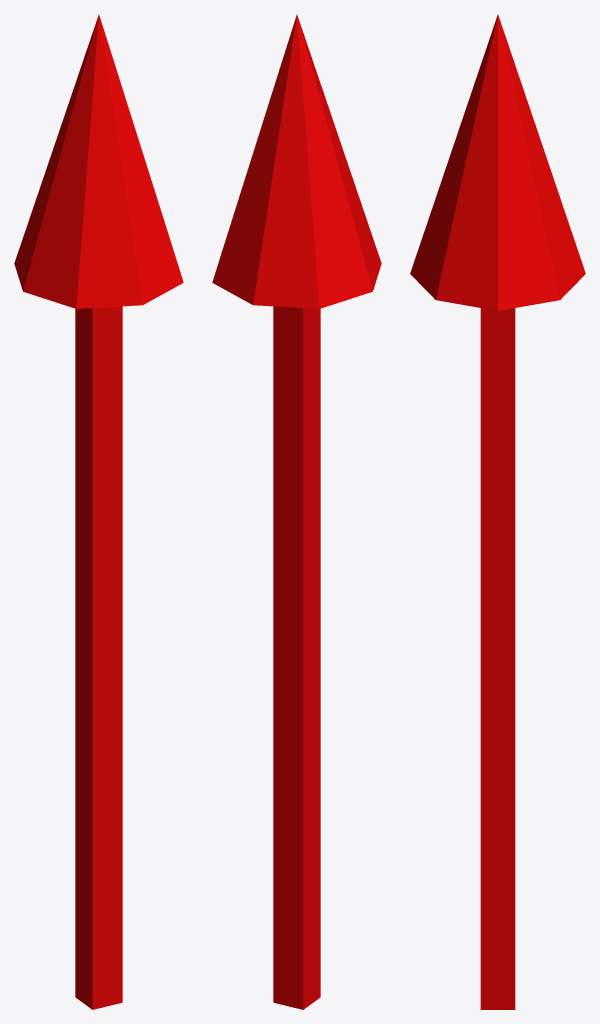
File: translate_arrow_x.dae
3 renders of one model, left to right at view 1: azimuth 30°, elevation 25°; view 2: azimuth 150°, elevation 25°; view 3: azimuth 270°, elevation 25°, orthographic.
Parts seen in each view (by area): view 1: Arrow; view 2: Arrow; view 3: Arrow.
Boxes of the visible parts, x1=… form: Arrow: x1=14, y1=14, x2=183, y2=1009; Arrow: x1=212, y1=14, x2=381, y2=1009; Arrow: x1=410, y1=14, x2=585, y2=1009.
Size of what is drawn, in the model's own units: 0.1613 by 0.1613 by 1.
